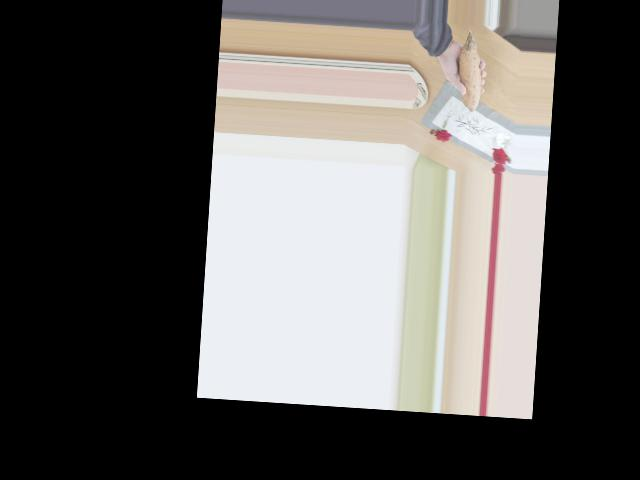sweet_potato: (449, 36, 487, 114)
